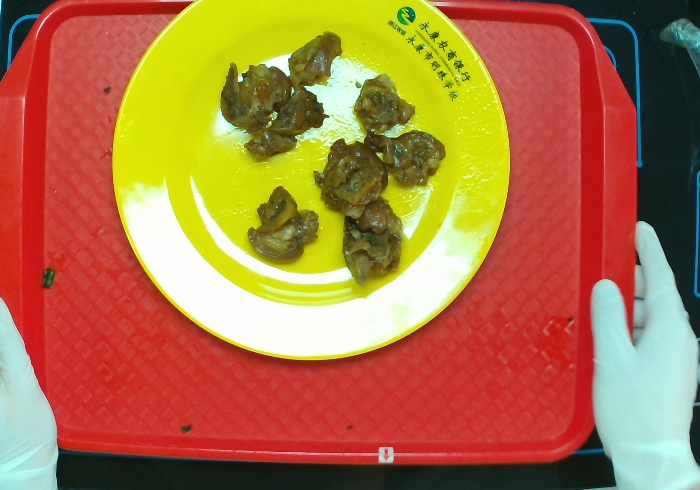YKMZ-Huang_Se_Mian_Pan: (102, 1, 512, 378)
